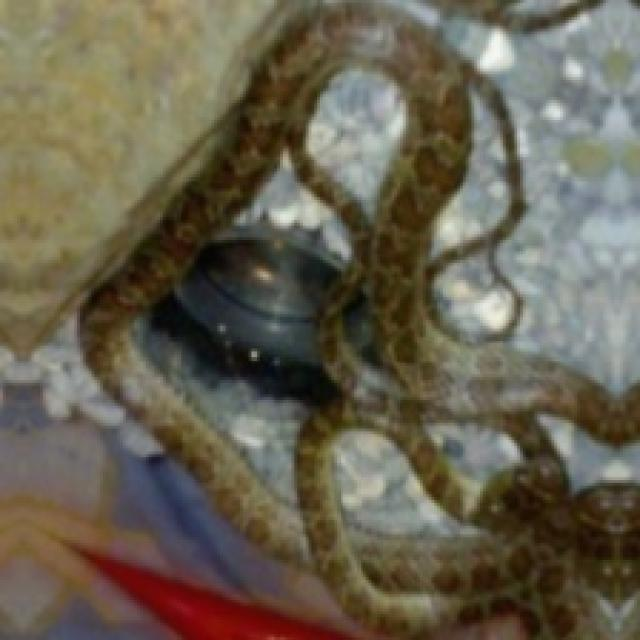mullers wolf snake: (80, 3, 637, 637), (131, 146, 351, 529), (331, 426, 474, 540), (303, 66, 406, 217), (429, 94, 509, 251), (431, 251, 511, 340)
